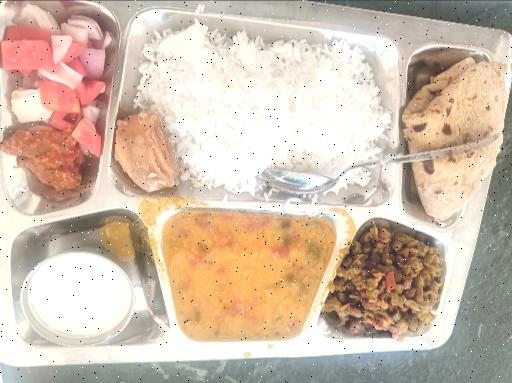Curd: (2, 236, 132, 342)
Dal: (159, 218, 312, 350)
Pickle: (2, 122, 90, 201)
Rice: (112, 20, 384, 201)
Roti: (402, 48, 512, 221)
Salad: (4, 10, 110, 117)
Sweet: (110, 103, 183, 190)
Vegetable: (324, 223, 472, 358)
